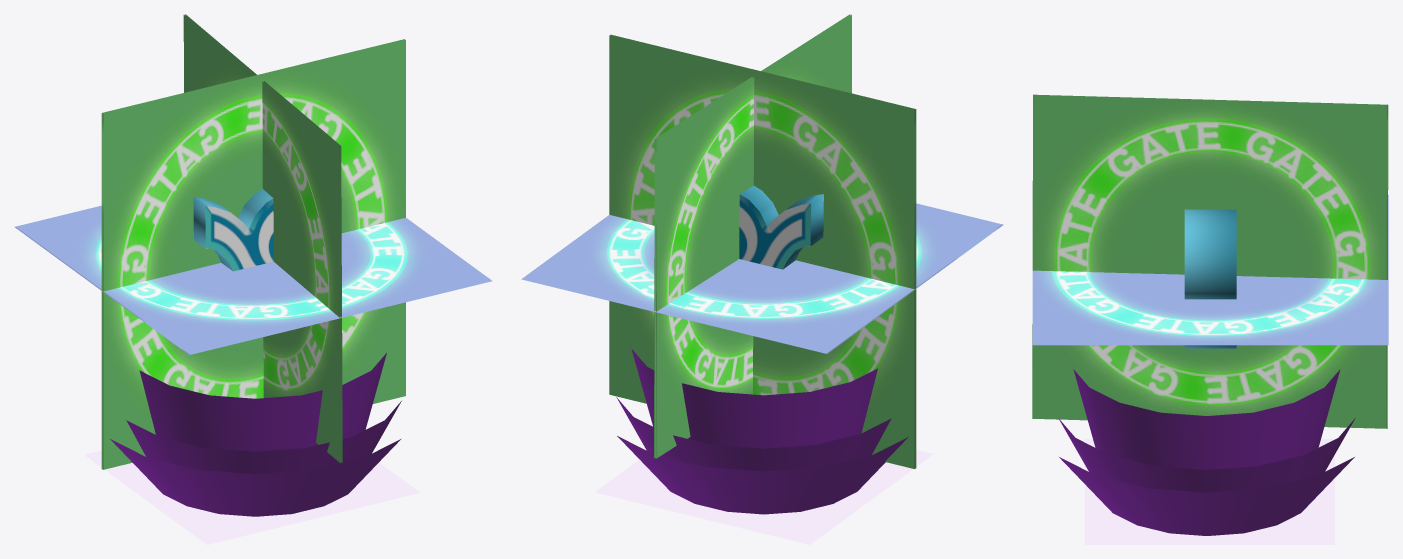
Rendered from a_SWAlobby01b.glb.
3 views of the same model, side by side, from view 1: azimuth 30°, elevation 25°; view 2: azimuth 150°, elevation 25°; view 3: azimuth 270°, elevation 25° (orthographic).
Parts seen in each view (by area): view 1: a_SWAlobby01b; view 2: a_SWAlobby01b; view 3: a_SWAlobby01b.
Boxes of the visible parts, x1,y1,x2,y2 form: a_SWAlobby01b: [15, 14, 492, 544]; a_SWAlobby01b: [521, 14, 1003, 544]; a_SWAlobby01b: [1032, 94, 1388, 544].
Size of the model in its own units: 1.74 by 2.2 by 1.74.
Materials: 9 (9 with a texture image).
